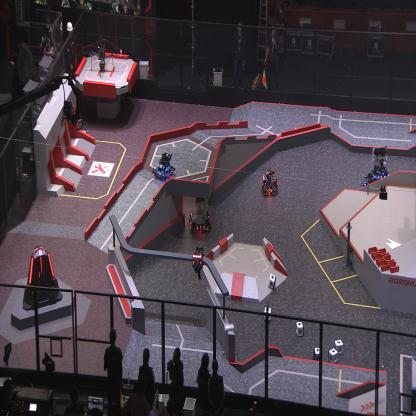car: (187, 196, 212, 236), (370, 146, 391, 190), (151, 151, 176, 181), (260, 167, 278, 197), (360, 172, 376, 196)
